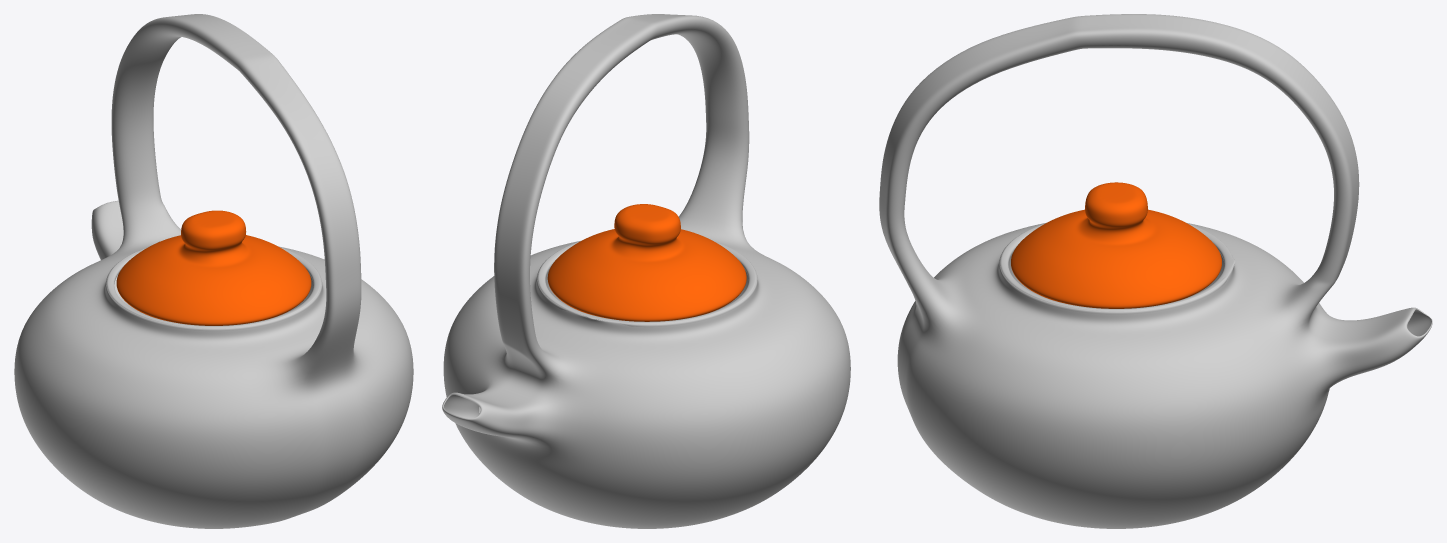
File: kettle.fbx
3 renders of one model, left to right at view 1: azimuth 30°, elevation 25°; view 2: azimuth 150°, elevation 25°; view 3: azimuth 270°, elevation 25°, orthographic. The views are drawn at different scales.
Parts seen in each view (by area): view 1: Cube, Cube.001; view 2: Cube, Cube.001; view 3: Cube, Cube.001.
Part boxes in pixels (bbox=[...]): Cube: bbox=[14, 14, 413, 528]; Cube.001: bbox=[116, 210, 311, 325]; Cube: bbox=[442, 14, 850, 528]; Cube.001: bbox=[547, 204, 746, 321]; Cube: bbox=[879, 14, 1432, 528]; Cube.001: bbox=[1011, 182, 1221, 308].
Size of what is drawn, in the model's own units: 219 by 270 by 281.
